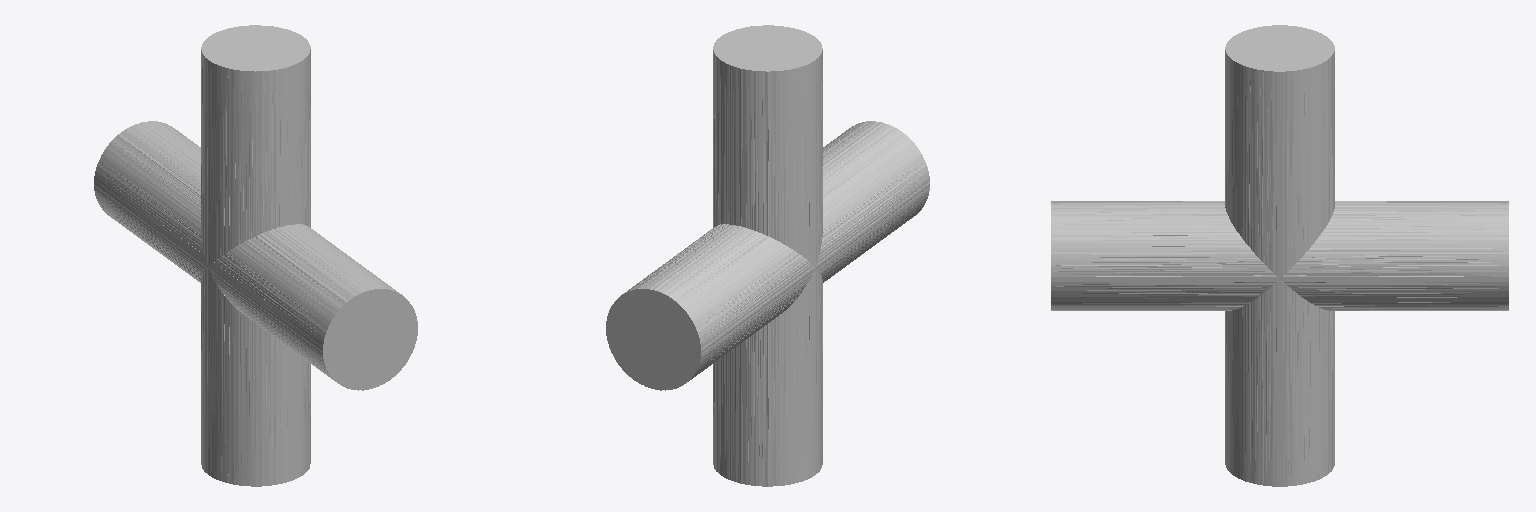
File: gatex+.obj
3 renders of one model, left to right at view 1: azimuth 30°, elevation 25°; view 2: azimuth 150°, elevation 25°; view 3: azimuth 270°, elevation 25°, orthographic.
Parts seen in each view (by area): view 1: Object.1; view 2: Object.1; view 3: Object.1.
Boxes of the visible parts, x1=… form: Object.1: x1=94, y1=25, x2=417, y2=486; Object.1: x1=606, y1=25, x2=929, y2=486; Object.1: x1=1051, y1=25, x2=1508, y2=486.
Size of the model in its own units: 0.2398 by 1 by 1.